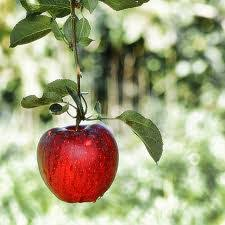apple: (37, 123, 120, 203)
